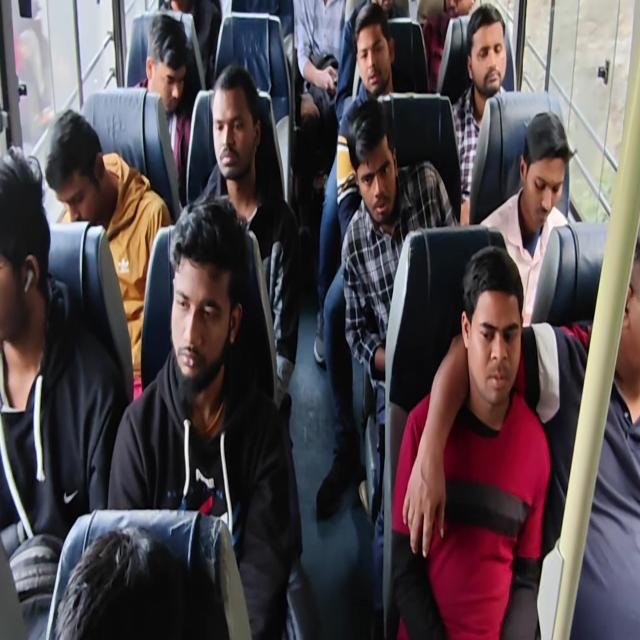person: (1, 1, 638, 638), (107, 195, 296, 638), (391, 245, 551, 638), (0, 144, 127, 637), (340, 97, 459, 520), (192, 64, 300, 408), (44, 108, 172, 396), (313, 3, 399, 366), (478, 110, 575, 327), (51, 523, 230, 638), (450, 3, 508, 225), (132, 12, 192, 206), (293, 0, 346, 201), (335, 0, 408, 125), (159, 0, 221, 88), (422, 0, 475, 92)
